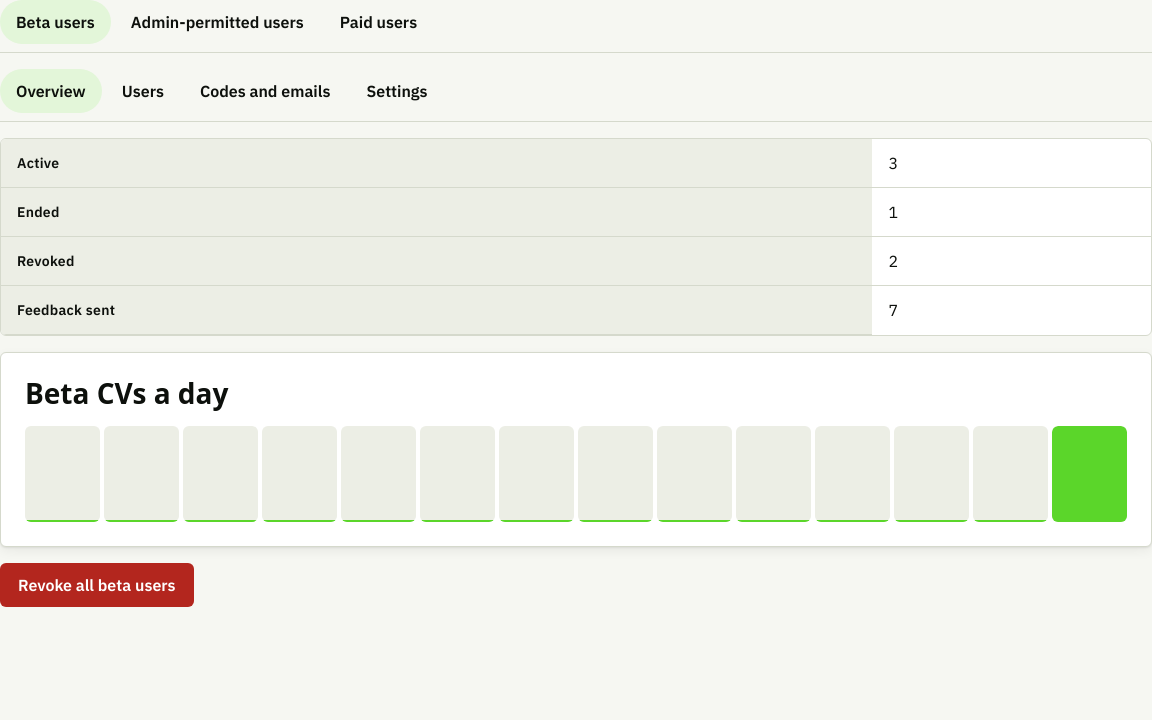
access tab › makes a code and shows it once
The width and height of the screenshot is (1152, 720).
Click the tab "Beta users" at (55, 22), box [0,0,111,44]
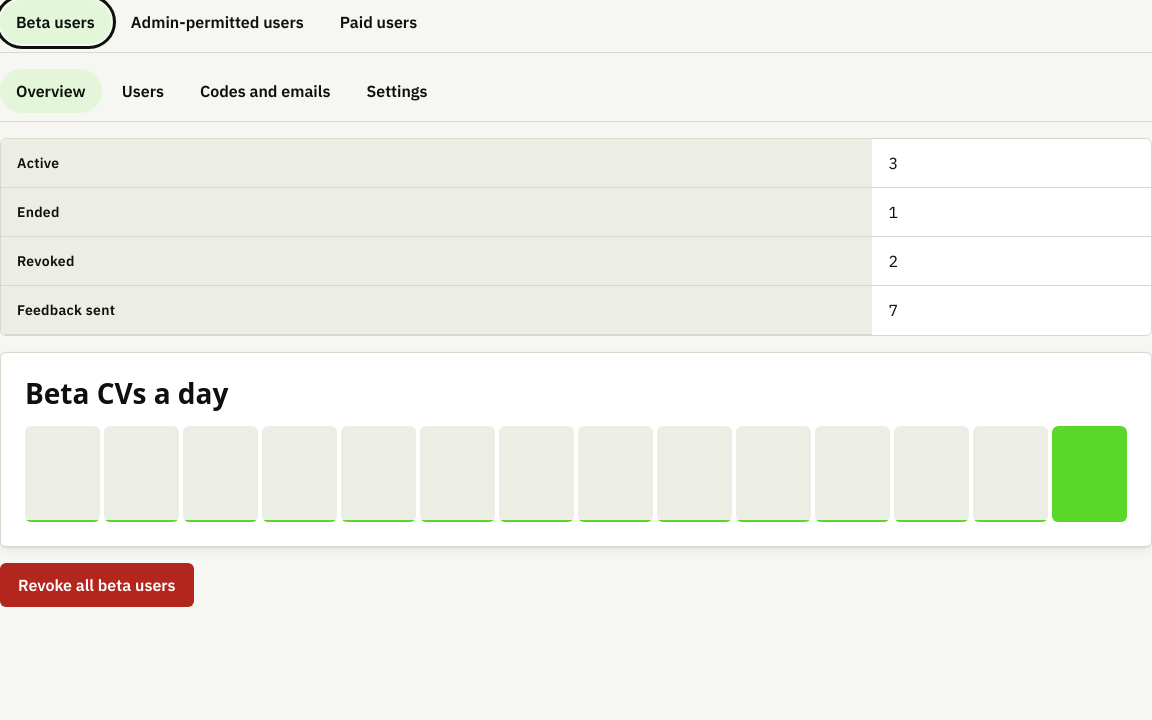
Click the tab "Codes and emails" at (265, 91), box [184,69,346,113]
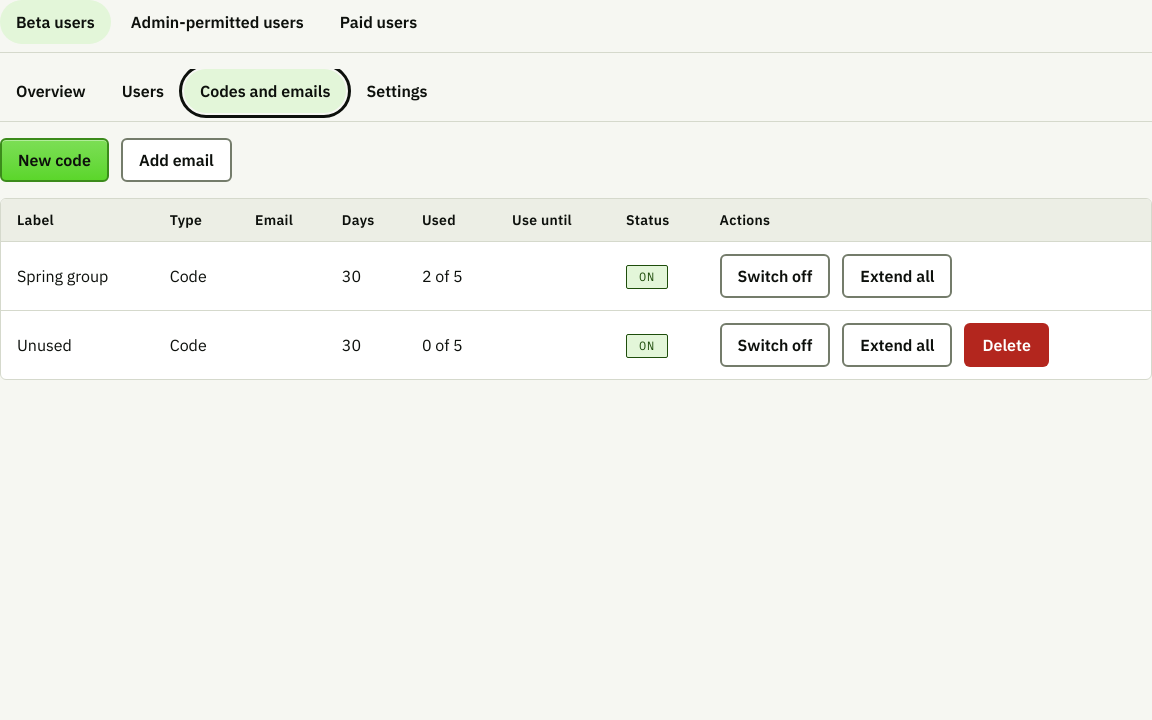
Click the button "New code" at (54, 160), box [0,138,109,182]
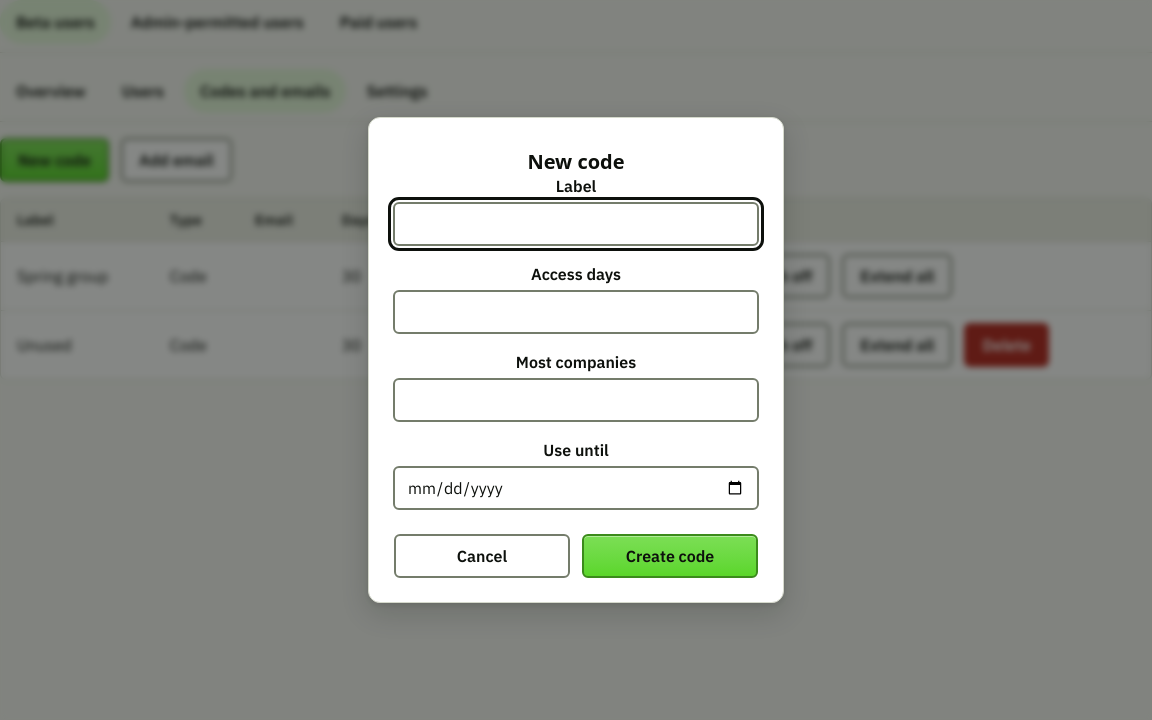
Type "Autumn" into the field labelled "Label" at (576, 224), box [393,202,759,246]
Type "20" into the field labelled "Access days" at (576, 312), box [393,290,759,334]
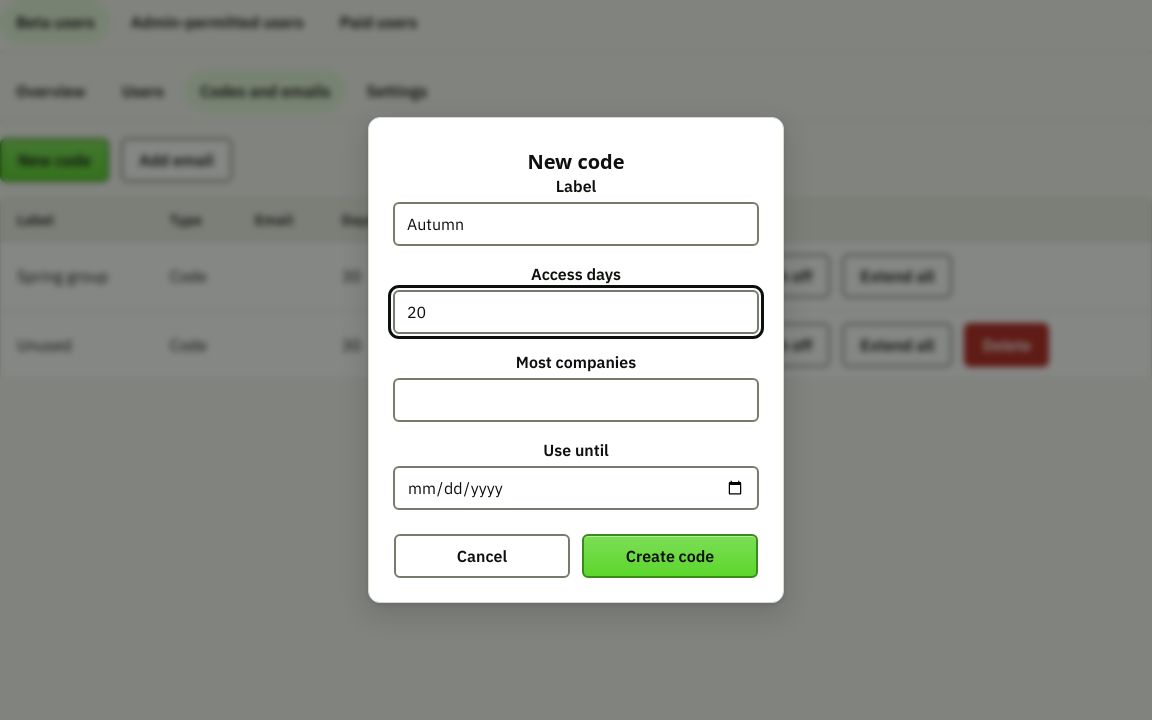
Type "8" into the field labelled "Most companies" at (576, 400), box [393,378,759,422]
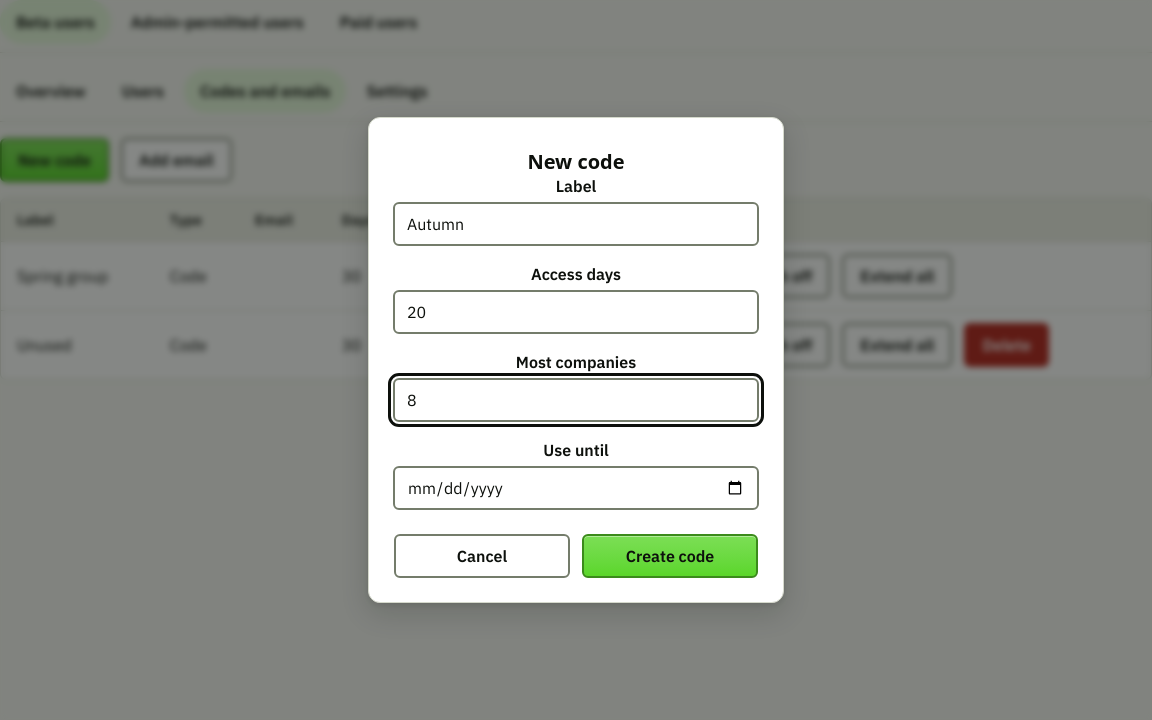
Click the button "Create code" at (670, 556), box [582,534,758,578]
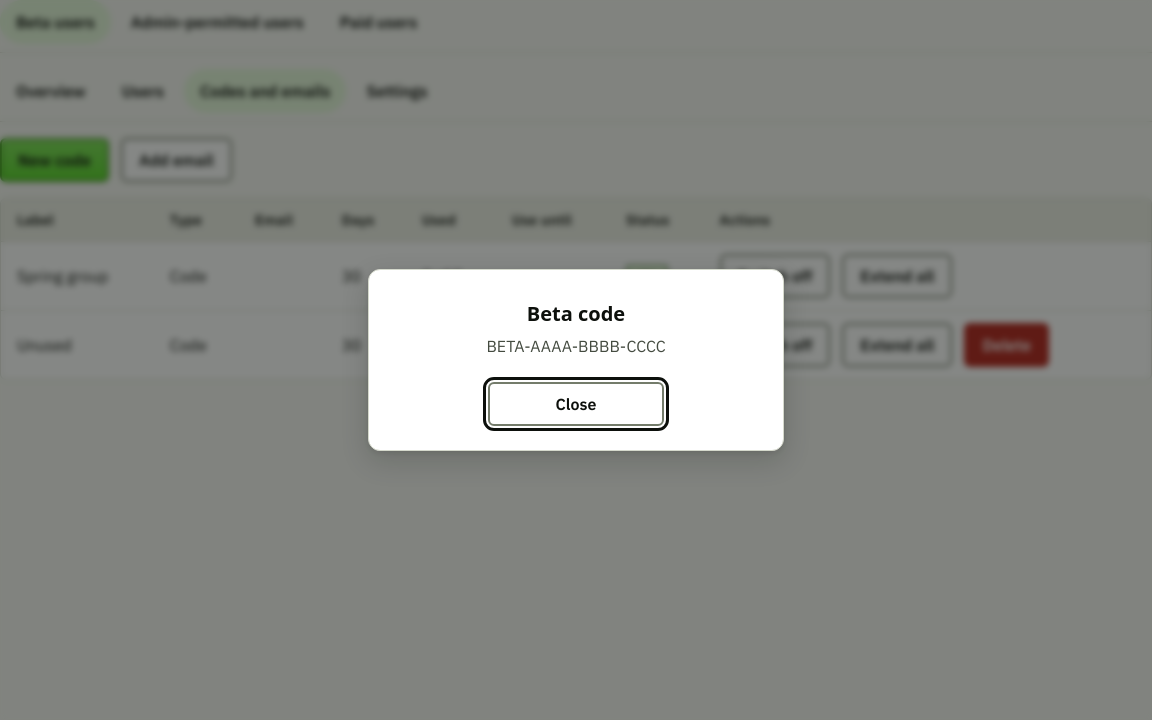
Check: the text "BETA-AAAA-BBBB-CCCC" is shown, box [486,336,666,356]
